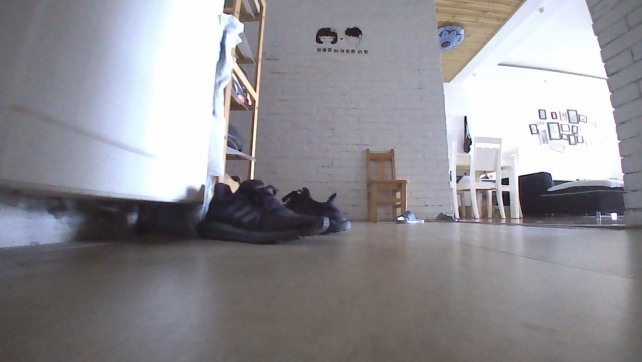dining_table: (455, 136, 524, 220)
shoe: (194, 172, 327, 244), (279, 184, 354, 234)
slipper: (391, 209, 425, 223), (423, 210, 459, 222)
sofa1: (501, 171, 625, 220)
